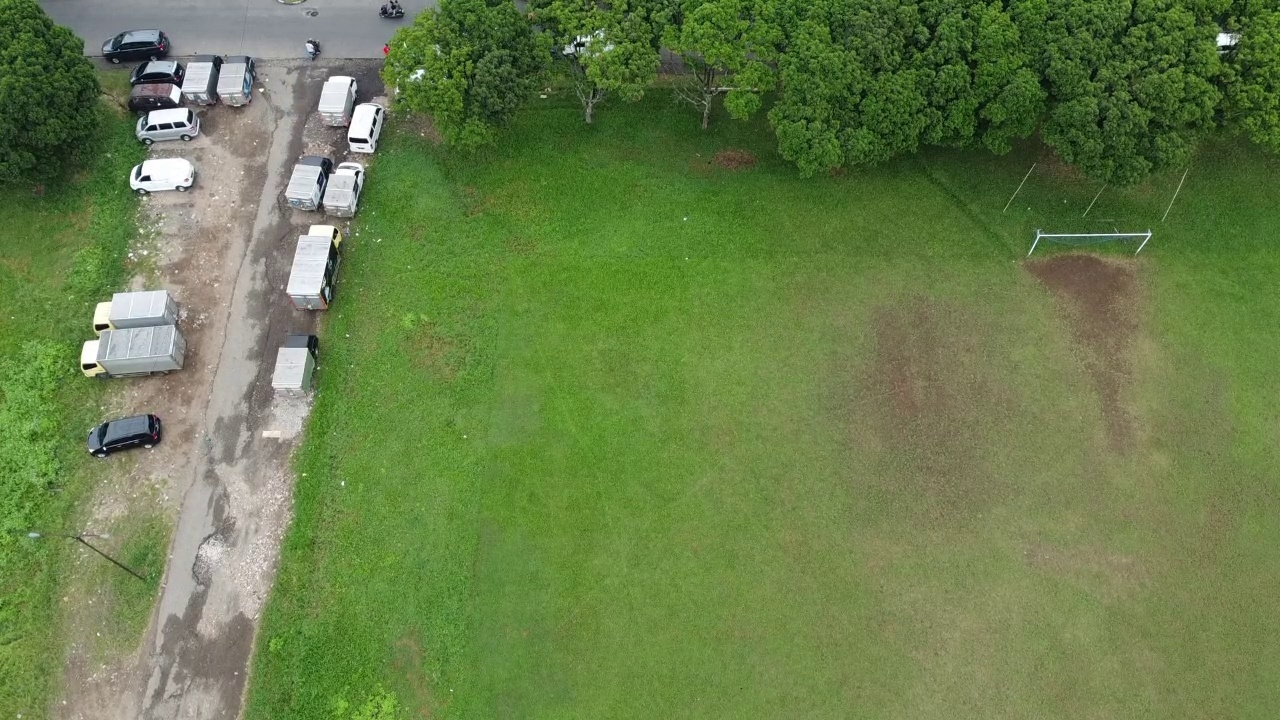mobil: (82, 410, 174, 461), (127, 156, 198, 196), (132, 107, 202, 145), (99, 29, 173, 64), (342, 101, 387, 158), (120, 81, 184, 110), (130, 59, 183, 86)
